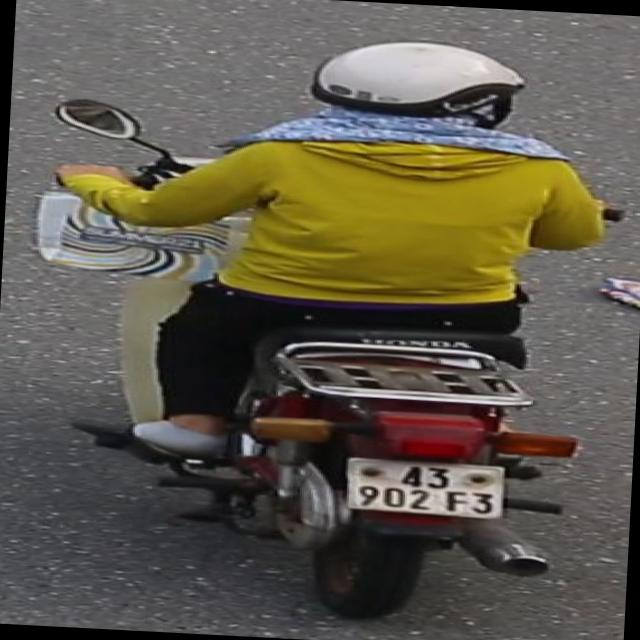LP: (336, 450, 514, 526)
helmet: (300, 29, 534, 152)
